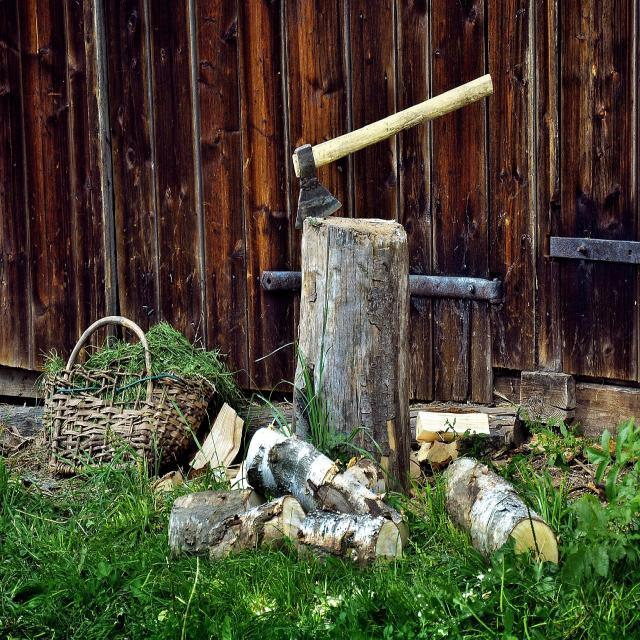Axe: (292, 74, 494, 228)
